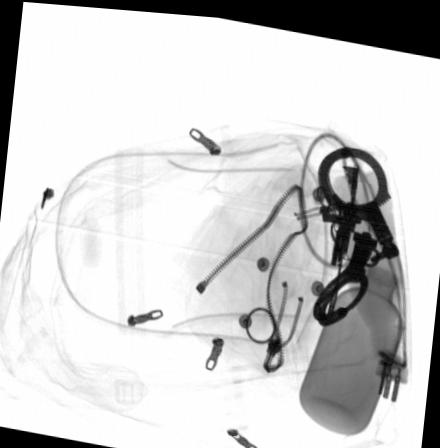Gun: (321, 158, 361, 313)
HandCuffs: (309, 133, 399, 321)
